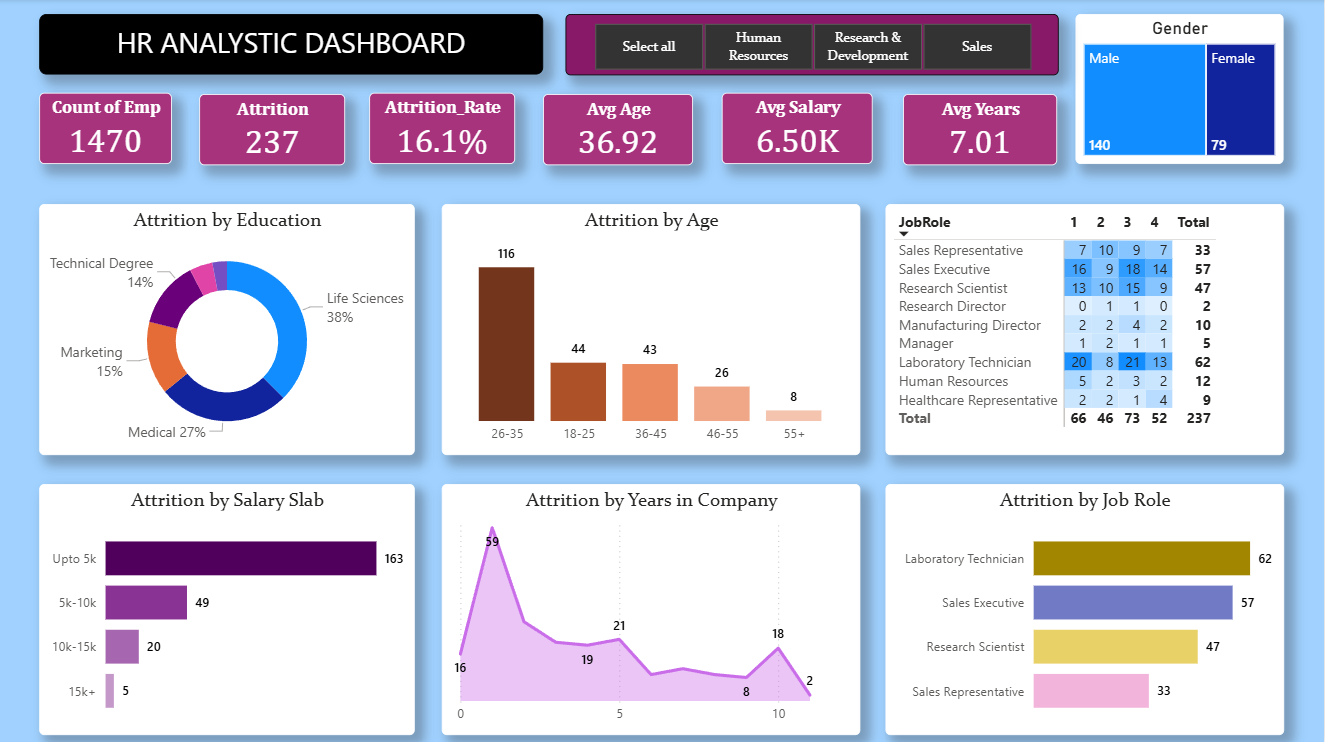

This screenshot's page, from the dashboard's own definition file:
{"tool":"powerbi","page":{"name":"Page 1","canvas":[1280,720],"ordinal":0},"visuals":[{"type":"card","title":"Count of Emp","fields":{"Values":["CountNonNull(HR_Analytics.EmpID)"]},"box":[40.4,89.9,127.7,69.1],"z":0},{"type":"card","title":"Attrition","fields":{"Values":["Sum(HR_Analytics.Attrition_count)"]},"box":[194.2,91.2,140.8,69.1],"z":1000},{"type":"card","title":"Avg Age ","fields":{"Values":["Avg(HR_Analytics.Age)"]},"box":[526.6,91.2,144.7,69.1],"z":2000},{"type":"card","title":"Avg Salary","fields":{"Values":["Avg(HR_Analytics.MonthlyIncome)"]},"box":[698.7,89.9,146,69.1],"z":3000},{"type":"card","title":"Attrition_Rate","fields":{"Values":["HR_Analytics.Attrition_rate"]},"box":[358.5,89.9,140.8,69.1],"z":4000},{"type":"card","title":"Avg Years","fields":{"Values":["Avg(HR_Analytics.YearsAtCompany)"]},"box":[873.3,91.2,148.6,69.1],"z":5000},{"type":"donutChart","title":"Attrition by Education","fields":{"Category":["HR_Analytics.EducationField"],"Y":["Sum(HR_Analytics.Attrition_count)"]},"box":[40.4,198.1,362.4,242.4],"z":6000},{"type":"columnChart","title":"Attrition by Age","fields":{"Y":["Sum(HR_Analytics.Attrition_count)"],"Category":["HR_Analytics.AgeGroup"]},"box":[428.8,198.1,404.1,242.4],"z":7000},{"type":"pivotTable","fields":{"Rows":["HR_Analytics.JobRole"],"Columns":["HR_Analytics.JobSatisfaction"],"Values":["Sum(HR_Analytics.Attrition_count)"]},"box":[856.4,198.1,384.5,242.4],"z":8000},{"type":"barChart","title":"Attrition by Salary Slab","fields":{"Category":["HR_Analytics.SalarySlab"],"Y":["Sum(HR_Analytics.Attrition_count)"]},"box":[40.4,467.9,362.4,242.4],"z":10000},{"type":"barChart","title":"Attrition by Job Role","fields":{"Y":["Sum(HR_Analytics.Attrition_count)"],"Category":["HR_Analytics.JobRole"]},"box":[856.4,467.9,384.5,242.4],"z":11000},{"type":"areaChart","title":"Attrition by Years in Company","fields":{"Category":["HR_Analytics.YearsAtCompany"],"Y":["Sum(HR_Analytics.Attrition_count)"]},"box":[428.8,467.9,404.1,242.4],"z":12000},{"type":"treemap","title":"Gender","fields":{"Group":["HR_Analytics.Gender"],"Values":["Sum(HR_Analytics.Attrition_count)"]},"box":[1040.2,14.3,200.7,144.7],"z":13000},{"type":"textbox","box":[40.4,14.3,486.2,58.7],"z":15000},{"type":"slicer","fields":{"Values":["HR_Analytics.Department"]},"box":[547.7,14.5,476,59],"z":15001}]}

Visuals, with their boxes in screenshot pixels (x1, y1, x2, y2), scaled from the page's 1280x720 canvas onto the 1325x742 screenshot:
"Count of Emp" card: 42/93/174/164
"Attrition" card: 201/94/347/165
"Avg Age " card: 545/94/695/165
"Avg Salary" card: 723/93/874/164
"Attrition_Rate" card: 371/93/517/164
"Avg Years" card: 904/94/1058/165
"Attrition by Education" donutChart: 42/204/417/454
"Attrition by Age" columnChart: 444/204/862/454
pivotTable - HR_Analytics.JobRole x HR_Analytics.JobSatisfaction: 887/204/1285/454
"Attrition by Salary Slab" barChart: 42/482/417/732
"Attrition by Job Role" barChart: 887/482/1285/732
"Attrition by Years in Company" areaChart: 444/482/862/732
"Gender" treemap: 1077/15/1285/164
textbox: 42/15/545/75
slicer - HR_Analytics.Department: 567/15/1060/76
